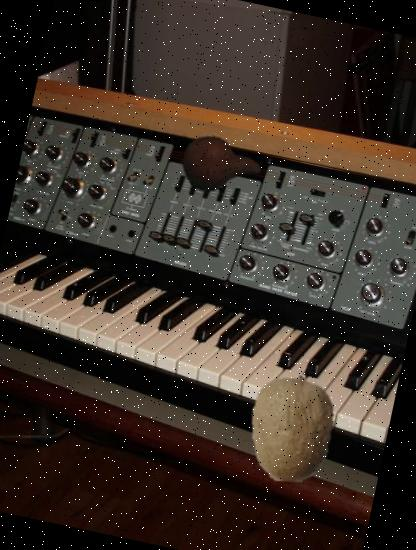Kiwi: (229, 365, 356, 492)
Pear: (171, 115, 270, 214)
